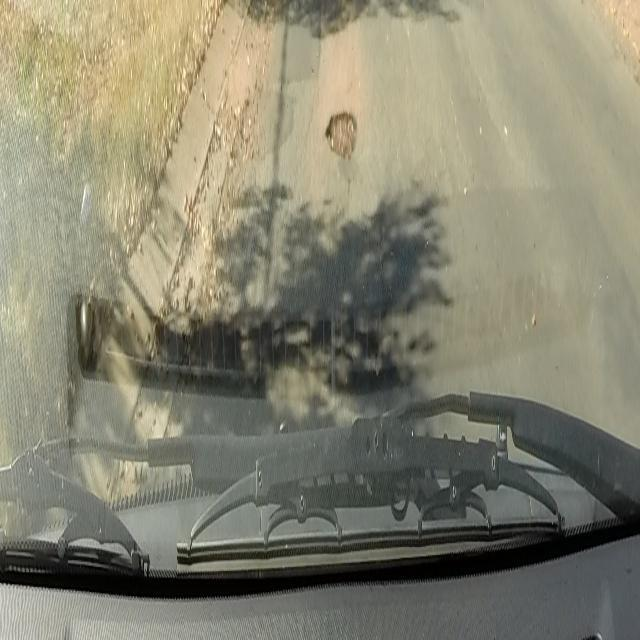pothole: (324, 109, 358, 159)
